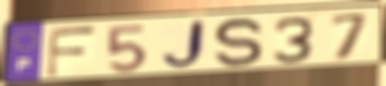3: (272, 15, 317, 65)
5: (105, 23, 151, 74)
7: (328, 11, 372, 61)
F: (44, 25, 100, 80)
J: (158, 18, 209, 73)
S: (212, 16, 266, 70)
